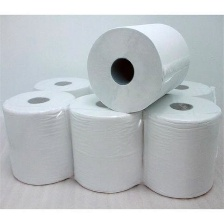tissue: (81, 18, 194, 117), (136, 90, 224, 203), (65, 90, 150, 197), (0, 83, 81, 190), (157, 74, 216, 106), (28, 73, 94, 99)
